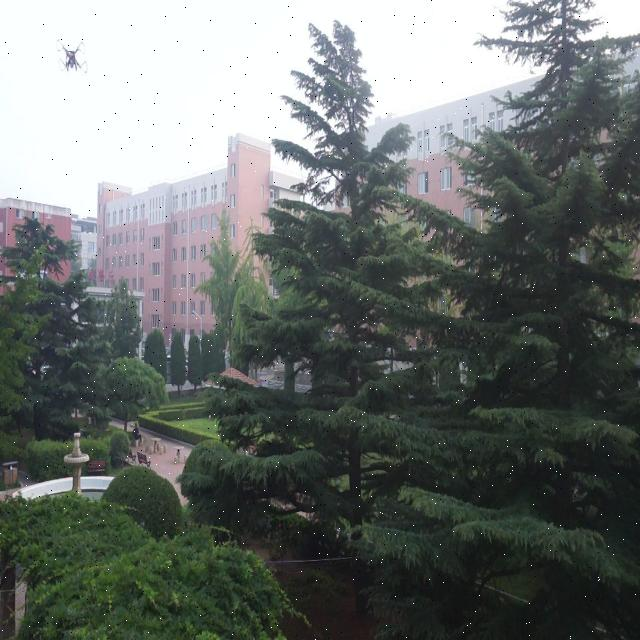UAV: (56, 39, 88, 73)
